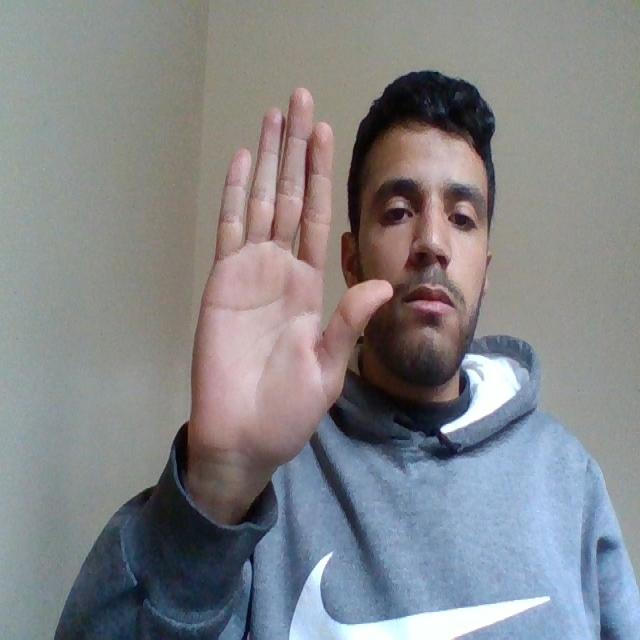Hello: (181, 85, 395, 483)
